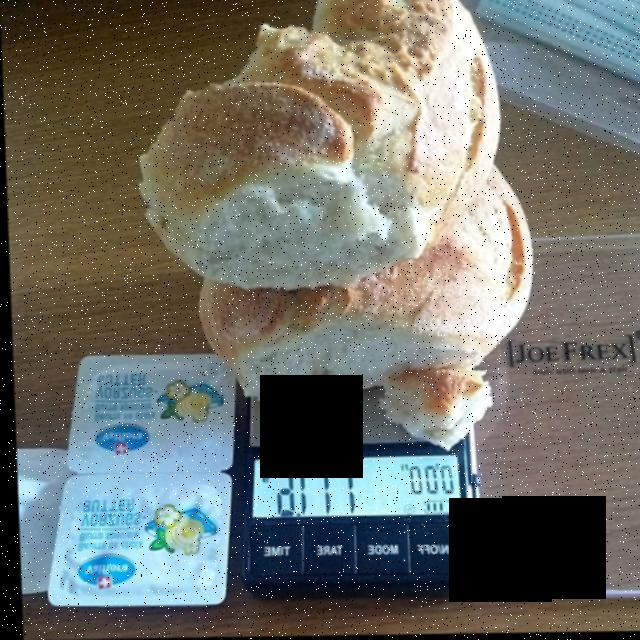bread-white: (144, 11, 523, 424)
